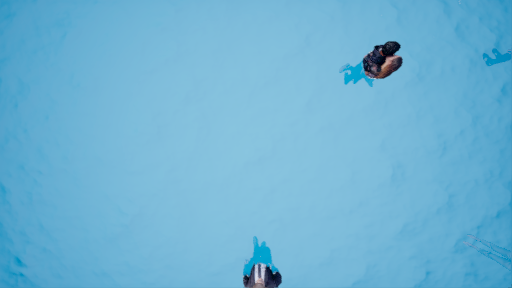person: (344, 36, 404, 90), (236, 228, 284, 288)
